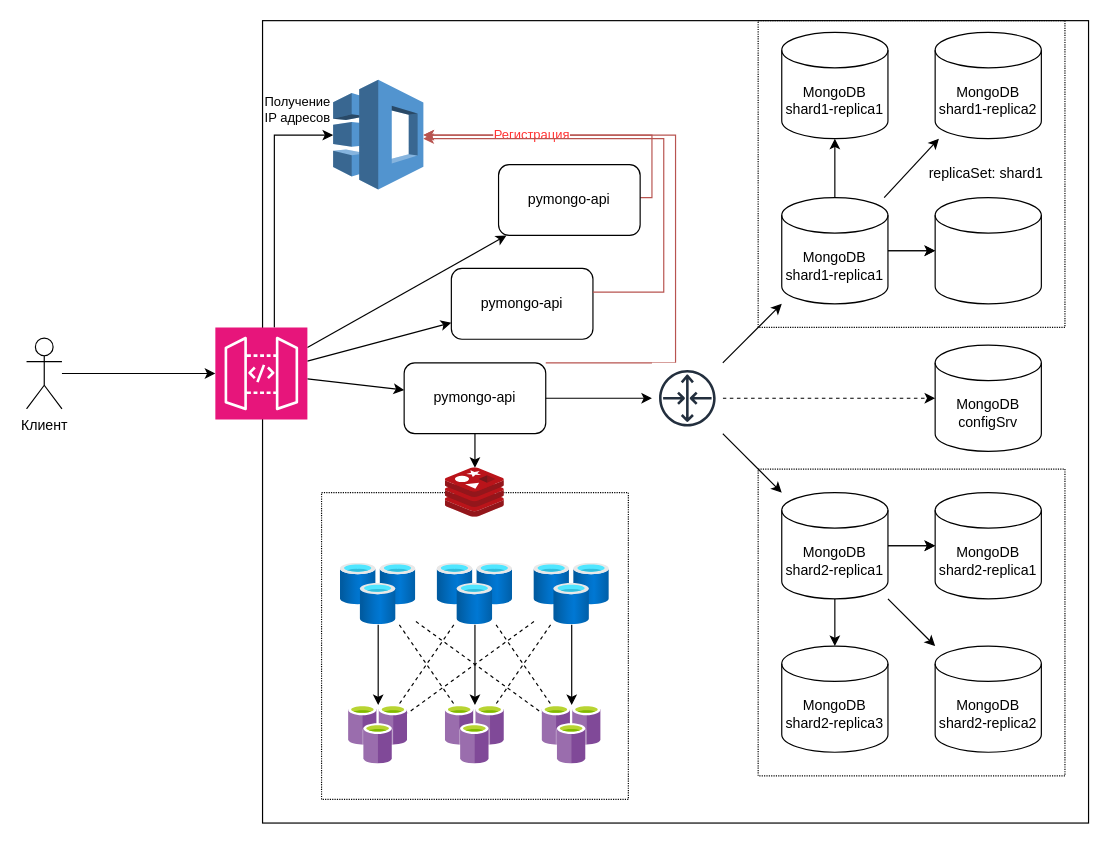
Image size: 1109x844. Some labels were removed from this diagram. Each missing label, with the box of its shape:
API Gateway: (214, 326, 307, 419)
Application Discovery Service: (332, 78, 423, 189)
MongoDB mongo_ router: (651, 362, 723, 434)
MongoDB shard1-replica3: (934, 196, 1041, 304)
replicaSet: shard2: (757, 468, 1065, 776)
Кластер Redis: (445, 467, 504, 517)
